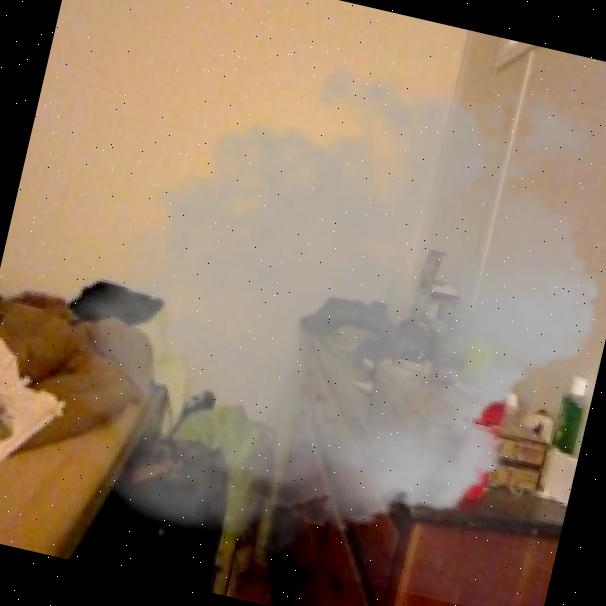smoke: (5, 0, 606, 606)
